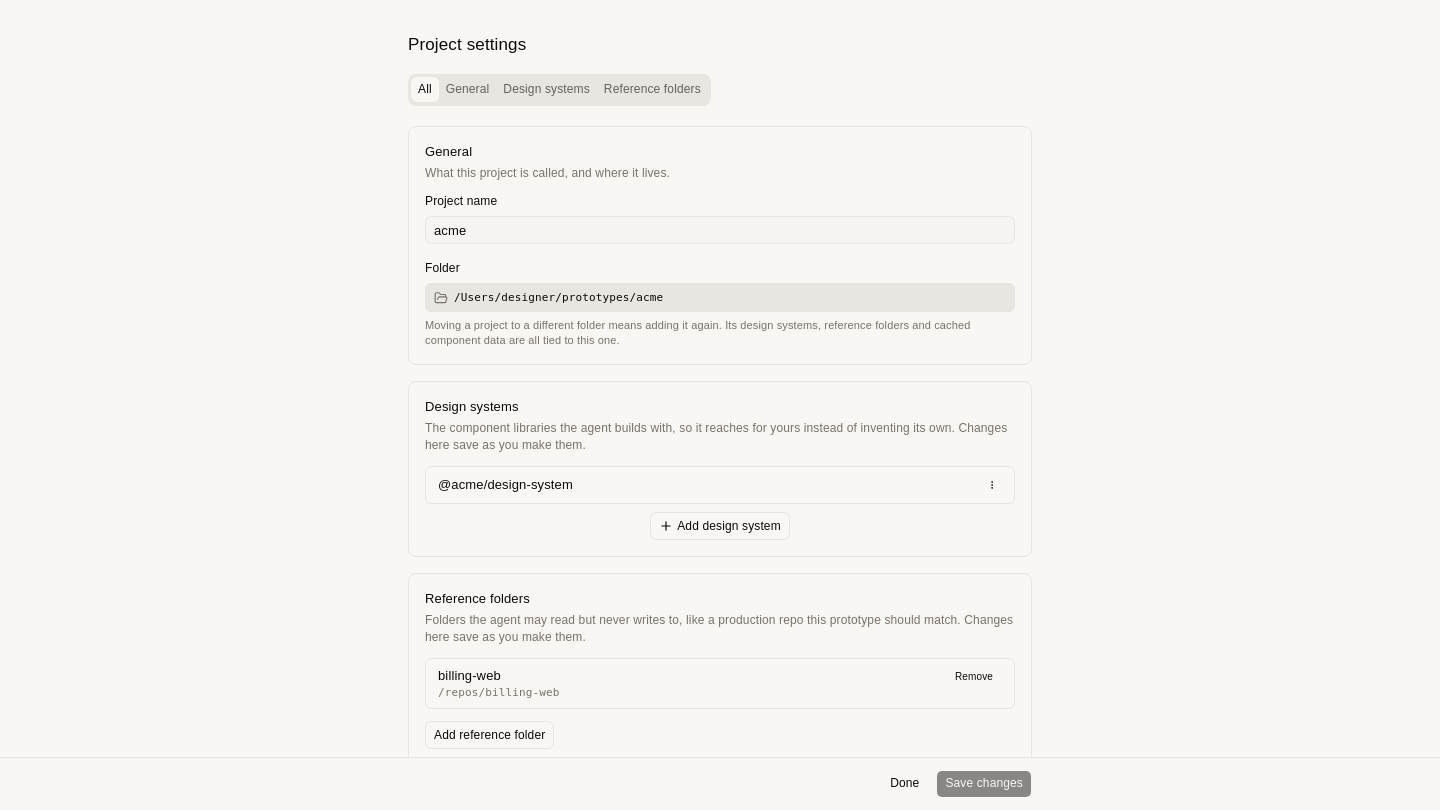
Scenario: ProjectSettingsPage › shows every section at once on All, and filters to one on a tab
Check: the element with test id "settings-section-general" is shown, box [408,126,1032,365]
Check: the element with test id "settings-section-design-systems" is shown, box [408,381,1032,557]
# Radix Tabs activate on mouseDown, not click.
Press the mouse on the tab with test id "settings-tab-design-systems": (547, 90) [496,77,597,102]
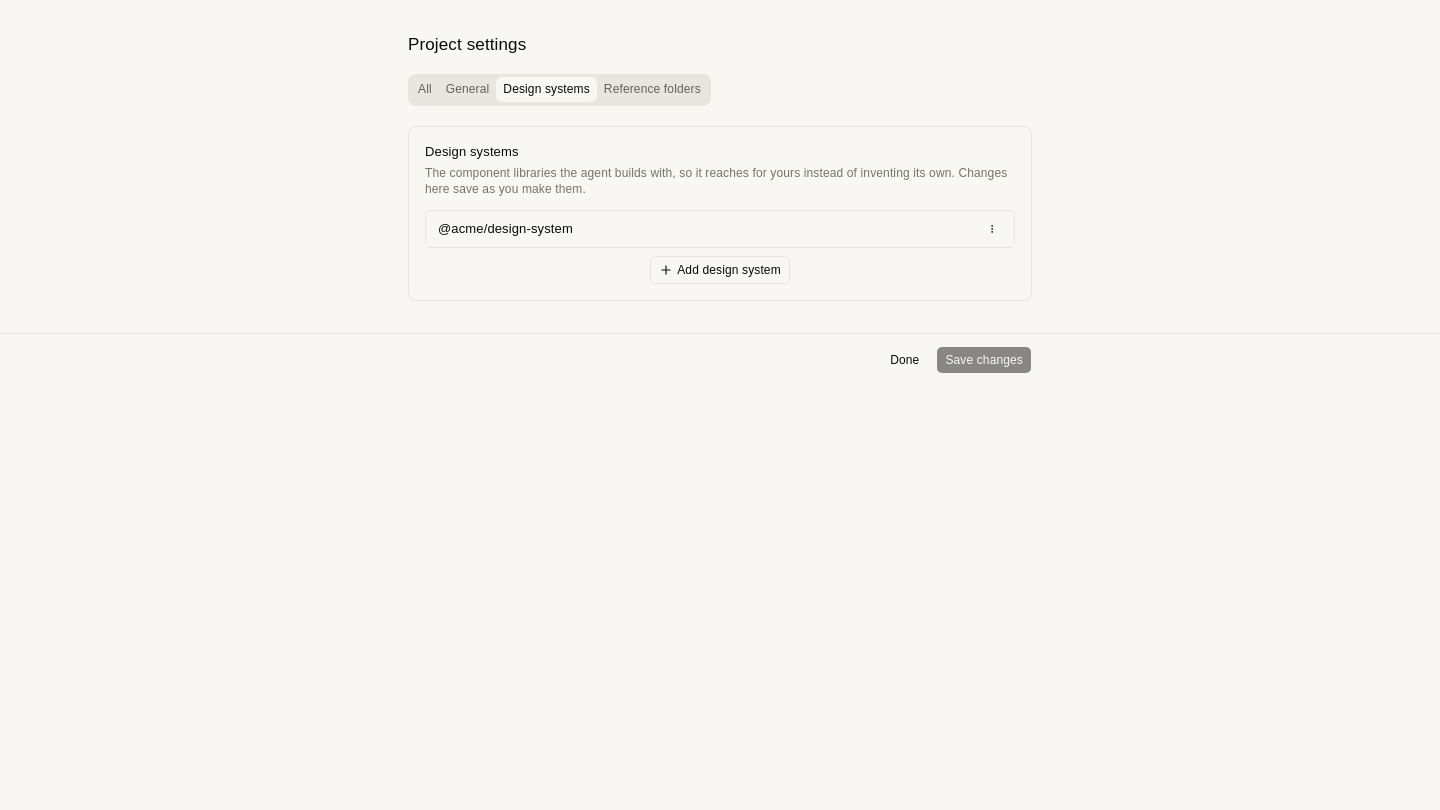
Check: the element with test id "settings-section-design-systems" is shown, box [408,126,1032,301]
Check: the element with test id "settings-section-general" is gone
Check: the element with test id "settings-section-reference-dirs" is gone
